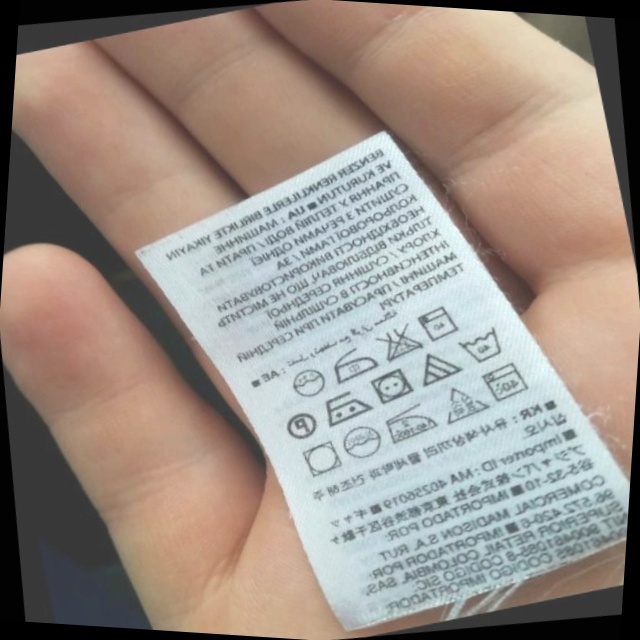40C: (451, 321, 507, 371), (477, 356, 530, 408), (413, 300, 460, 348)
dry_clean: (335, 419, 387, 465), (284, 361, 331, 406)
dry_clean_any_solvent_except_trichloroethylene: (280, 406, 321, 444)
iron: (325, 341, 382, 387)
iron_medium: (378, 399, 441, 449), (318, 384, 373, 430)
non_chlorine_bleach: (434, 379, 489, 431), (411, 345, 464, 392)
tumble_dry_medium: (363, 361, 418, 410)
tumble_dry_normal: (295, 436, 348, 485)
